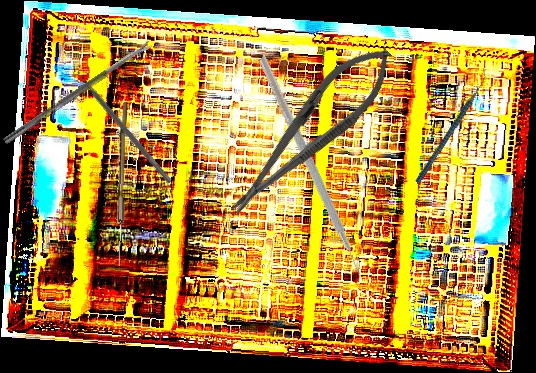Chopper: (178, 53, 435, 297), (385, 66, 516, 186)
Needle Holder: (213, 31, 408, 230)
Spatula Surgical: (70, 63, 177, 185)
Surgical Spoon: (2, 40, 154, 146), (116, 101, 127, 267)
